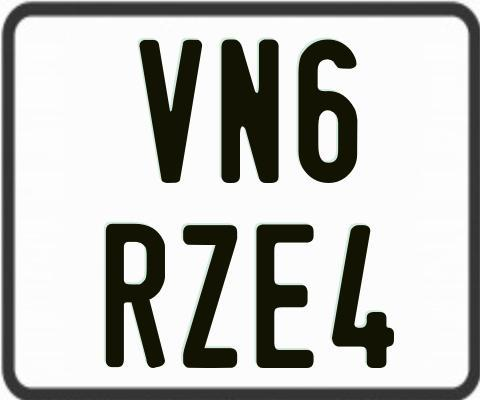4: (332, 225, 400, 373)
6: (297, 37, 360, 183)
E: (254, 224, 312, 374)
N: (219, 38, 277, 182)
R: (106, 223, 169, 369)
V: (139, 39, 203, 186)
Z: (182, 225, 241, 374)
